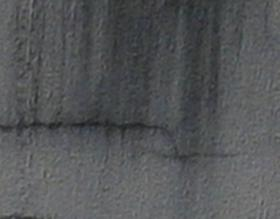fissura: (0, 91, 263, 173)
